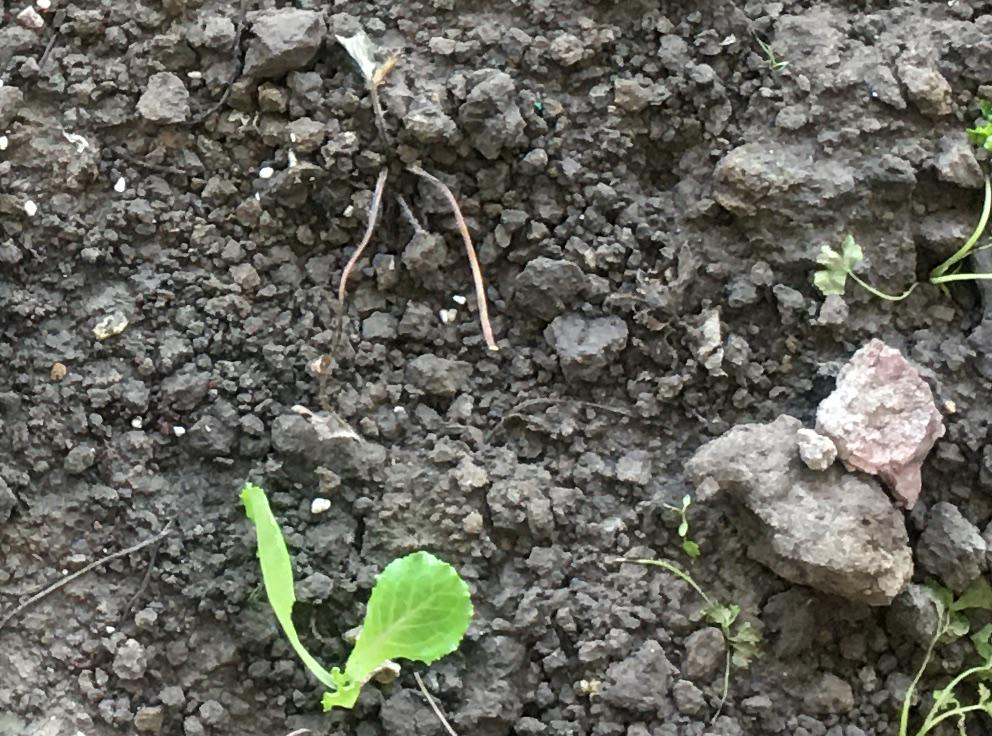block: (682, 424, 911, 608), (819, 333, 941, 509)
